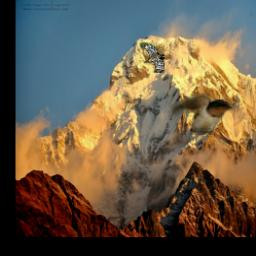Swallow: (169, 94, 232, 136)
Woodpecker: (140, 43, 164, 74)
